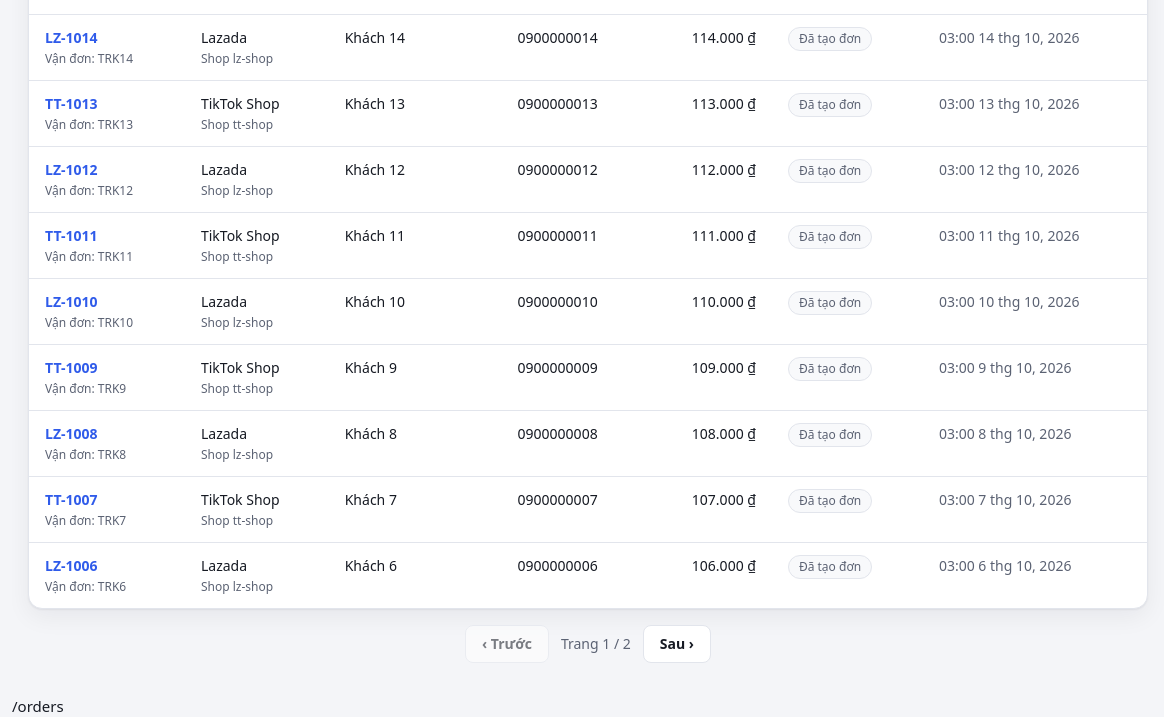
it: OrdersPage › pages through results
This screenshot has width=1164, height=717.
(page scrolled)
Click the button "Sau ›". click: (677, 644)
box: x1=643 y1=624 x2=711 y2=662
(page scrolled)
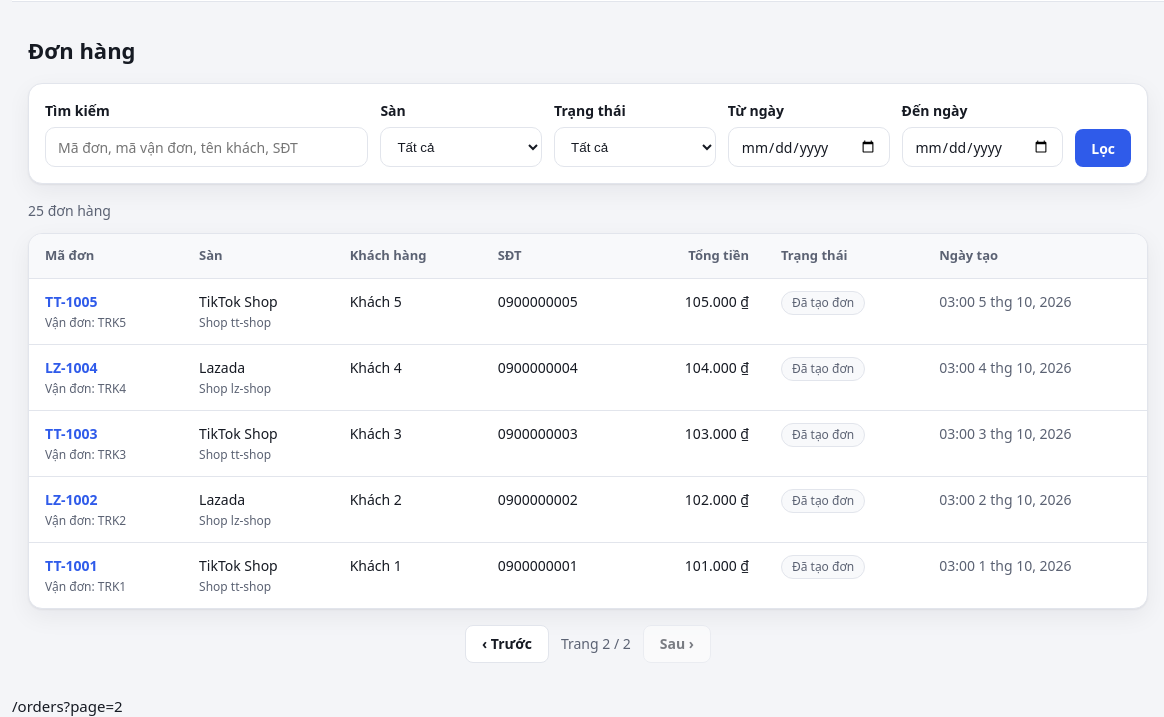
Check: the text "Trang 2 / 2" is shown, box x1=561 y1=633 x2=631 y2=654
Check: the number of rows is 6, box x1=29 y1=234 x2=1147 y2=278; x1=29 y1=278 x2=1147 y2=344; x1=29 y1=344 x2=1147 y2=410; x1=29 y1=410 x2=1147 y2=476; x1=29 y1=476 x2=1147 y2=542; x1=29 y1=542 x2=1147 y2=608
Check: the button "Sau ›" is disabled, box x1=643 y1=624 x2=711 y2=662
